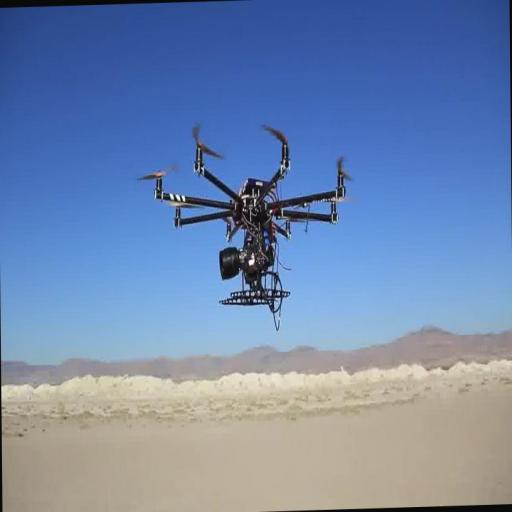drone: (148, 118, 348, 314)
